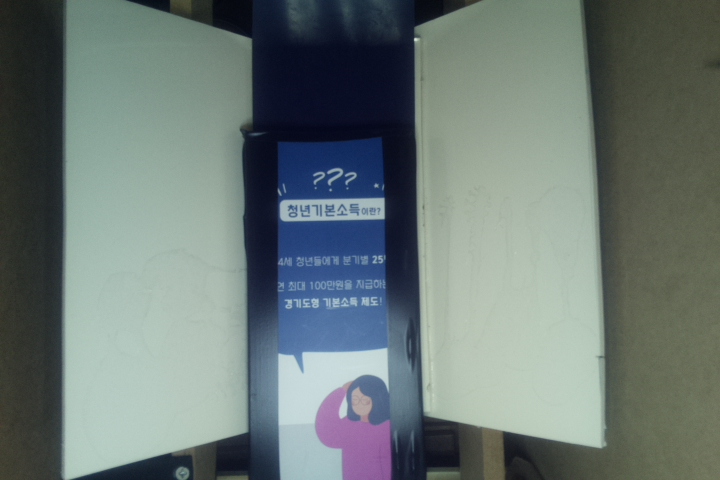book: (246, 128, 425, 480)
